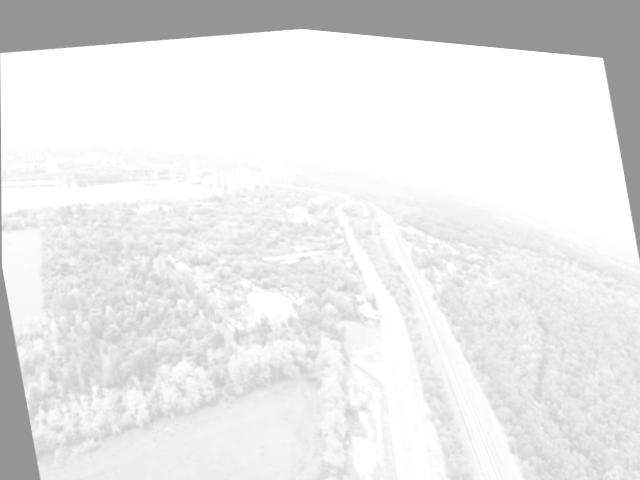hedef: (253, 233, 333, 271)
